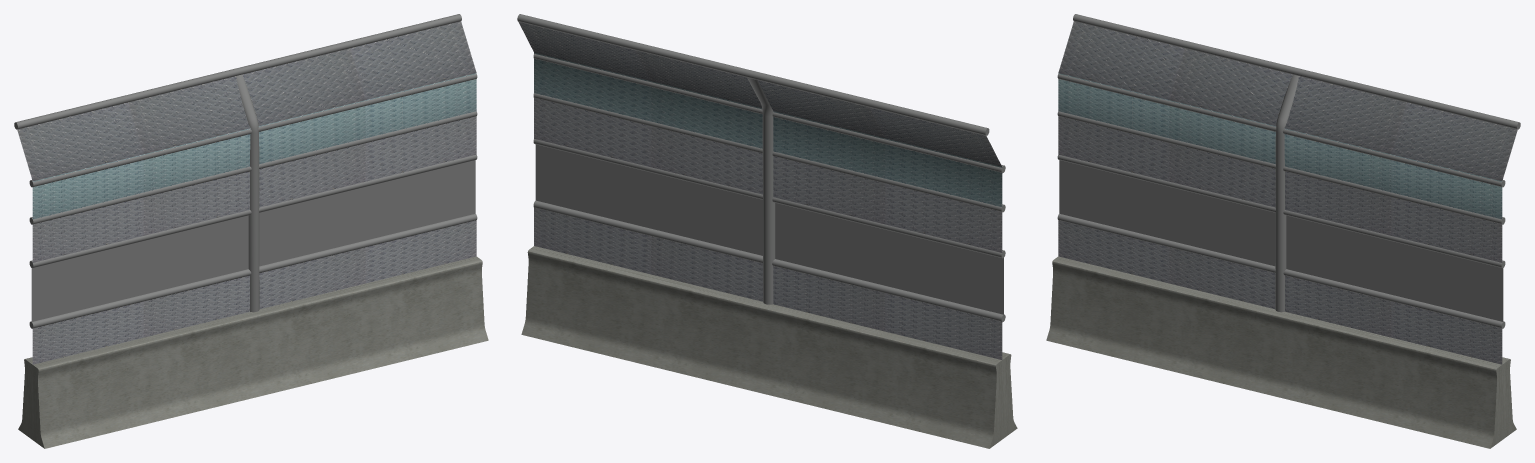
Rendered from SM_fence1-5.glb.
The picture shows the model from 3 angles, left to right: view 1: azimuth 30°, elevation 25°; view 2: azimuth 150°, elevation 25°; view 3: azimuth 330°, elevation 25°; orthographic projection. The views are drawn at different scales.
Parts seen in each view (by area): view 1: SM_fence1-5; view 2: SM_fence1-5; view 3: SM_fence1-5.
Boxes of the visible parts, x1,y1,x2,y2 form: SM_fence1-5: [14, 14, 488, 448]; SM_fence1-5: [517, 14, 1017, 448]; SM_fence1-5: [1046, 14, 1520, 448].
Size of the model in its own units: 5 by 3.29 by 0.6058.
Materials: 6 (5 with a texture image).
